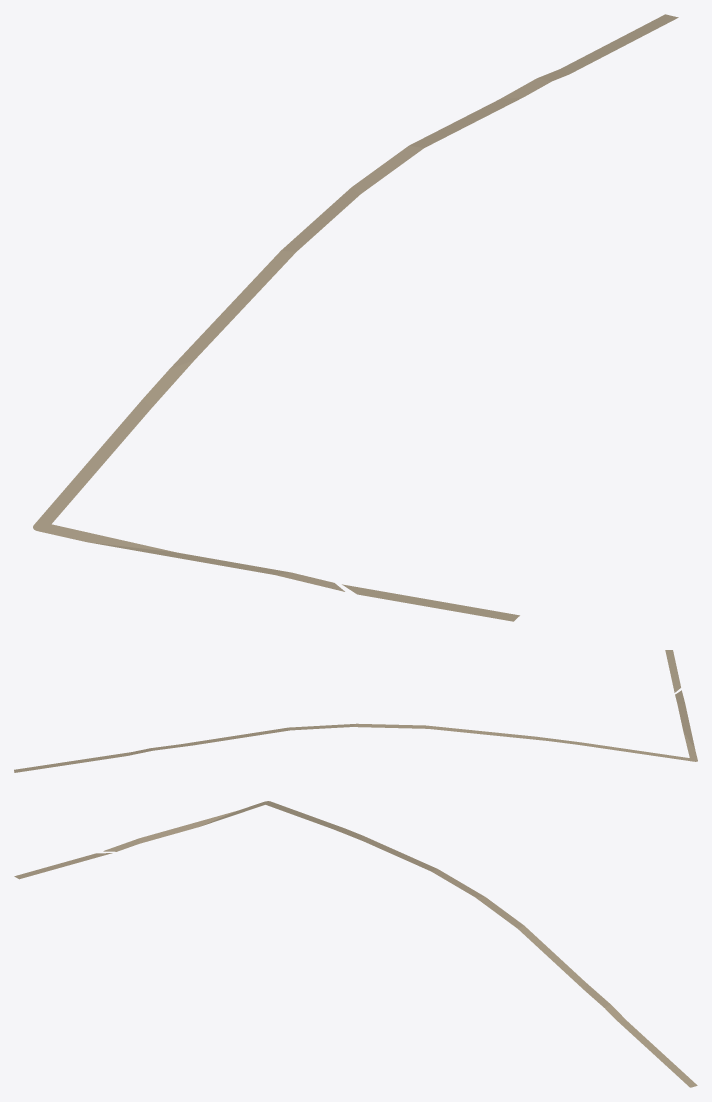
File: farm_22_21_track.glb
3 renders of one model, top to bottom at view 1: azimuth 30°, elevation 25°; view 2: azimuth 150°, elevation 25°; view 3: azimuth 270°, elevation 25°, orthographic. The views are drawn at different scales.
Visible parts, largest first — view 1: geometry_0; view 2: geometry_0; view 3: geometry_0.
Boxes of the visible parts, x1,y1,x2,y2 form: geometry_0: (33, 14, 678, 621); geometry_0: (14, 650, 697, 772); geometry_0: (14, 801, 697, 1087).
Size of the model in its own units: 244 by 19.67 by 245.
